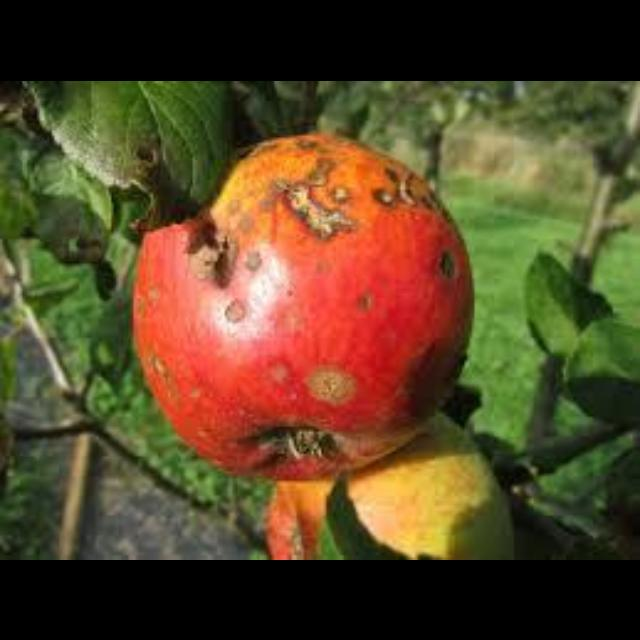apple: (131, 132, 469, 478)
pest: (180, 206, 241, 286), (277, 179, 353, 236), (306, 364, 353, 401), (385, 166, 415, 201), (225, 297, 245, 320), (373, 189, 393, 204)
rotten: (398, 336, 471, 423)
